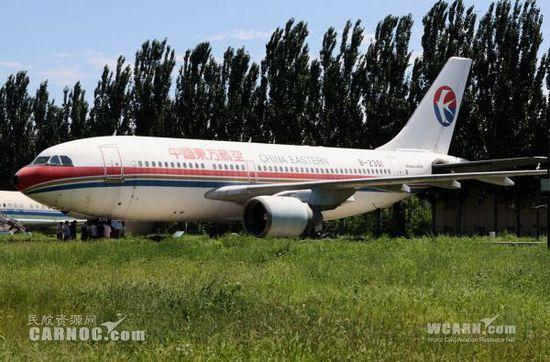airplane: (8, 58, 538, 239)
